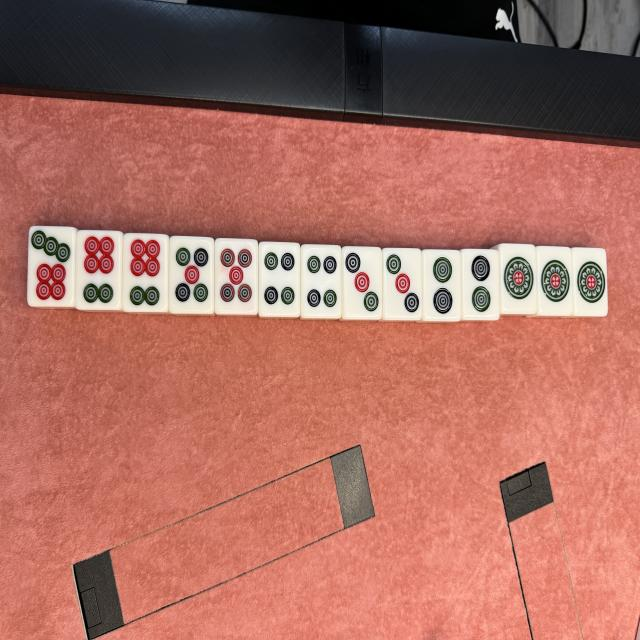sd1: (27, 226, 74, 307), (75, 230, 121, 311), (122, 233, 166, 312), (168, 236, 212, 315), (215, 238, 258, 314), (258, 242, 300, 317), (342, 246, 382, 320), (301, 245, 341, 318), (383, 248, 422, 320), (423, 249, 461, 321), (462, 249, 499, 320), (499, 243, 536, 314), (537, 246, 572, 316), (573, 247, 608, 317)
